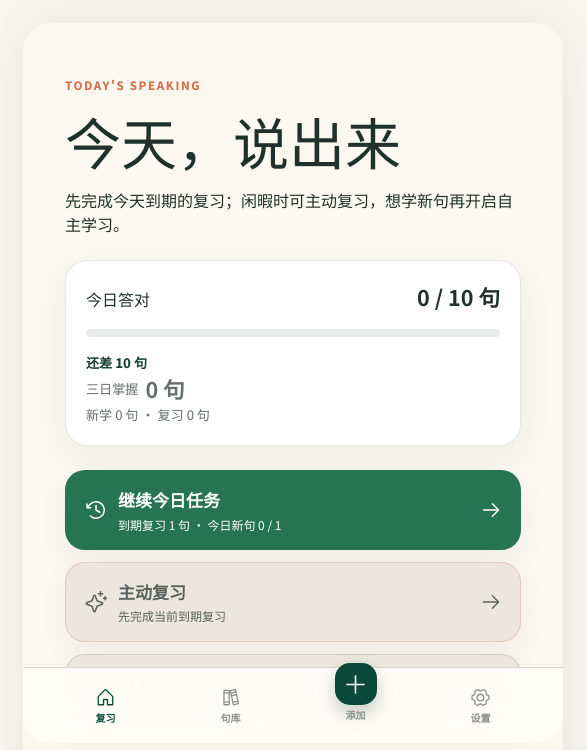
Scenario: PhraseBankApp › continues review when the refreshed Shanghai day has newly due content
Click the button "继续今日任务 到期复习 1 句 · 今日新句 0 / 1" at (169,500), box [65,470,521,550]
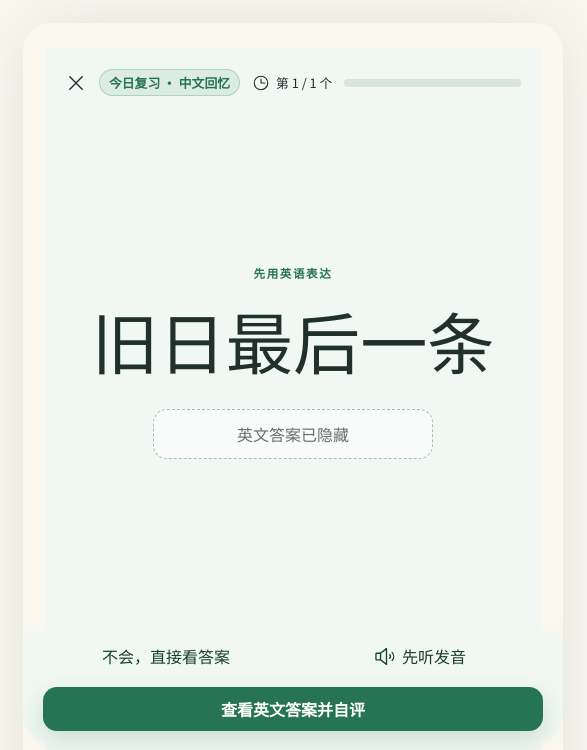
Check: the heading "旧日最后一条" is shown, box [65,300,521,381]
Click the button "查看英文答案并自评" at (293,709), box [43,687,543,731]
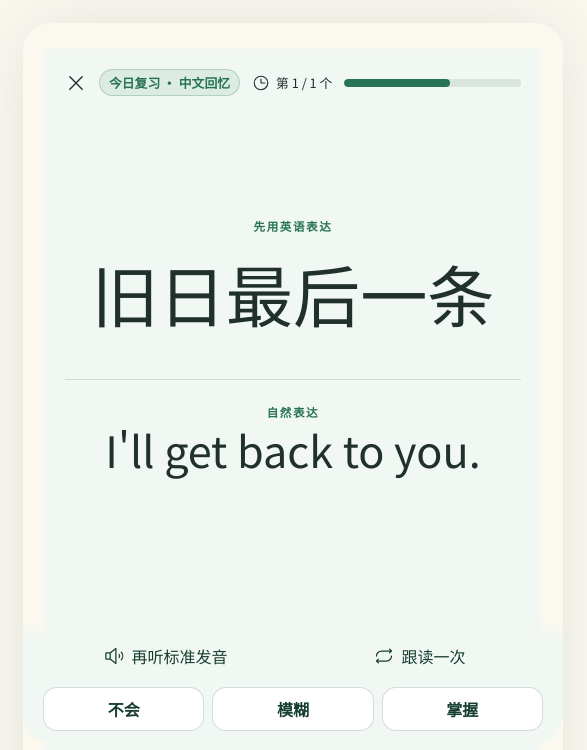
Click the button "掌握" at (462,709), box [382,687,543,731]
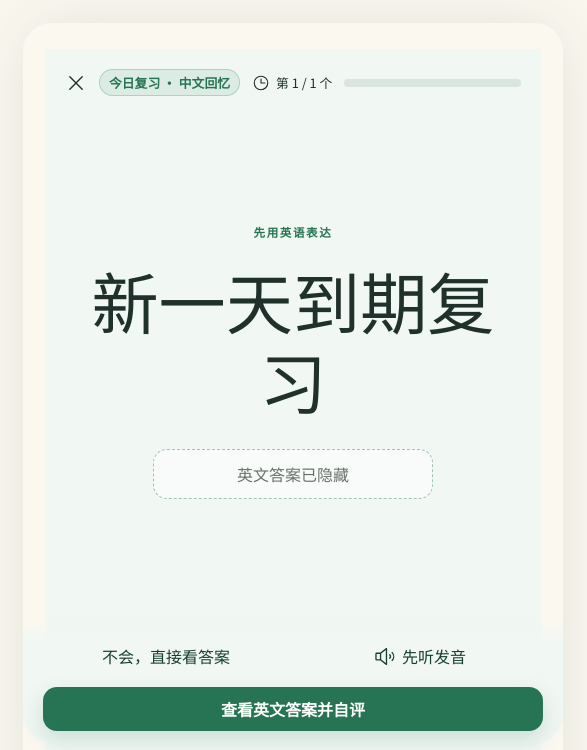
Check: the text "今日复习 · 中文回忆" is shown, box [99,69,240,96]
Check: the heading "新一天到期复习" is shown, box [65,260,521,421]
